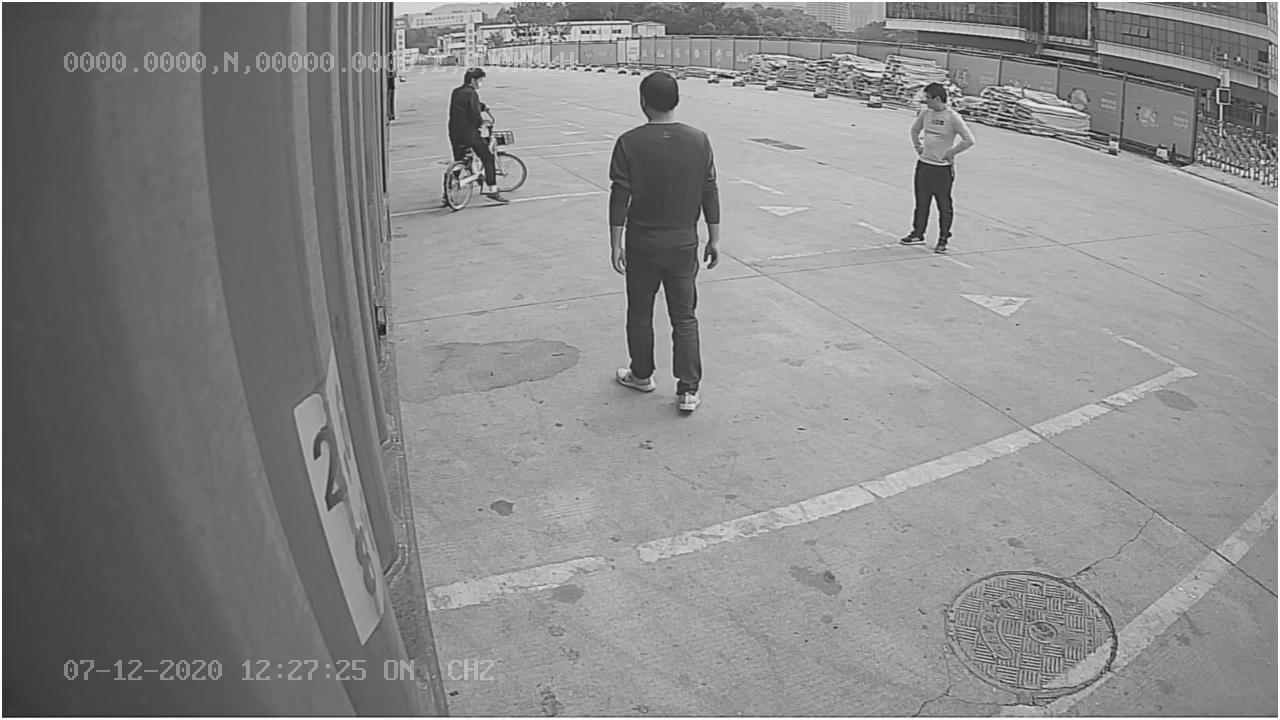person: (603, 65, 729, 421)
